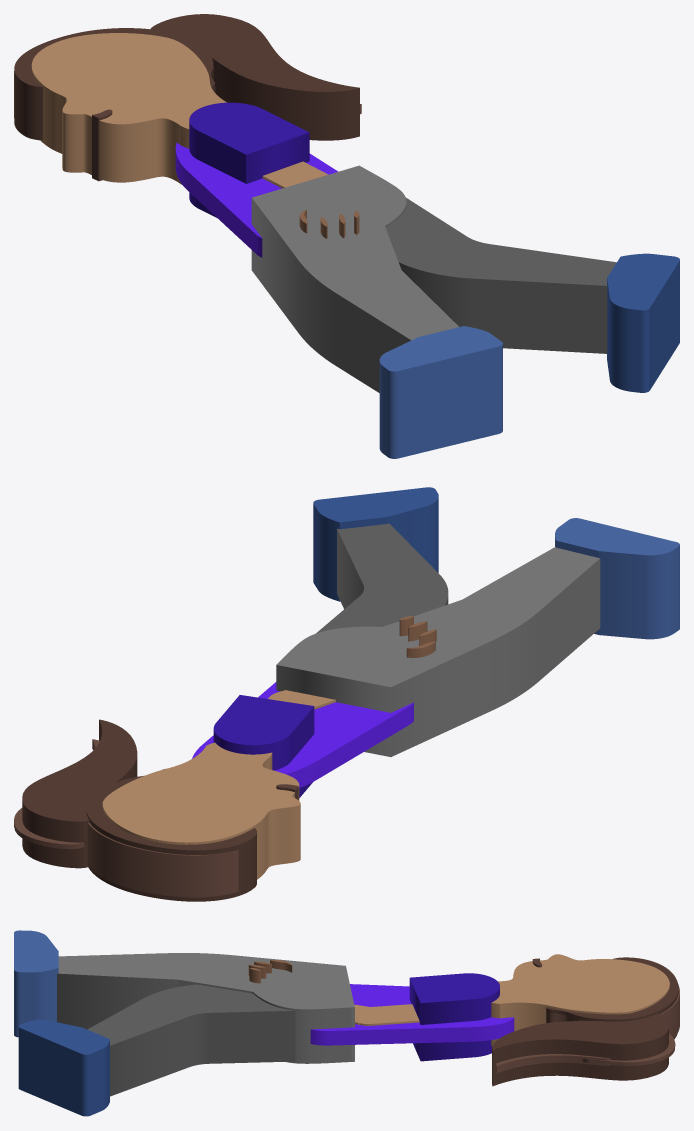
The model's file is emoji_u1f6b6_1f3fd_200d_2640.glb.
3 renders of one model, top to bottom at view 1: azimuth 30°, elevation 25°; view 2: azimuth 150°, elevation 25°; view 3: azimuth 270°, elevation 25°, orthographic. The views are drawn at different scales.
Visible parts, largest first — view 1: emoji_u1f6b6_1f3fd_200d_2640; view 2: emoji_u1f6b6_1f3fd_200d_2640; view 3: emoji_u1f6b6_1f3fd_200d_2640.
Boxes of the visible parts, x1,y1,x2,y2 form: emoji_u1f6b6_1f3fd_200d_2640: [14, 14, 679, 458]; emoji_u1f6b6_1f3fd_200d_2640: [14, 487, 679, 901]; emoji_u1f6b6_1f3fd_200d_2640: [14, 930, 679, 1116].
Size of the model in its own units: 0.0144 by 0.0044 by 0.0332.
